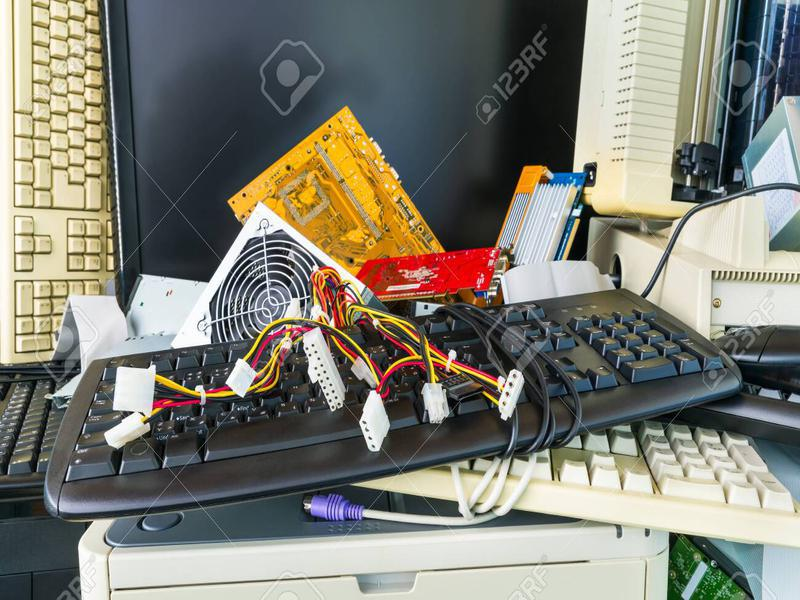circuit_board: (215, 104, 451, 276), (350, 246, 500, 301)
keyboard: (39, 286, 757, 528)
